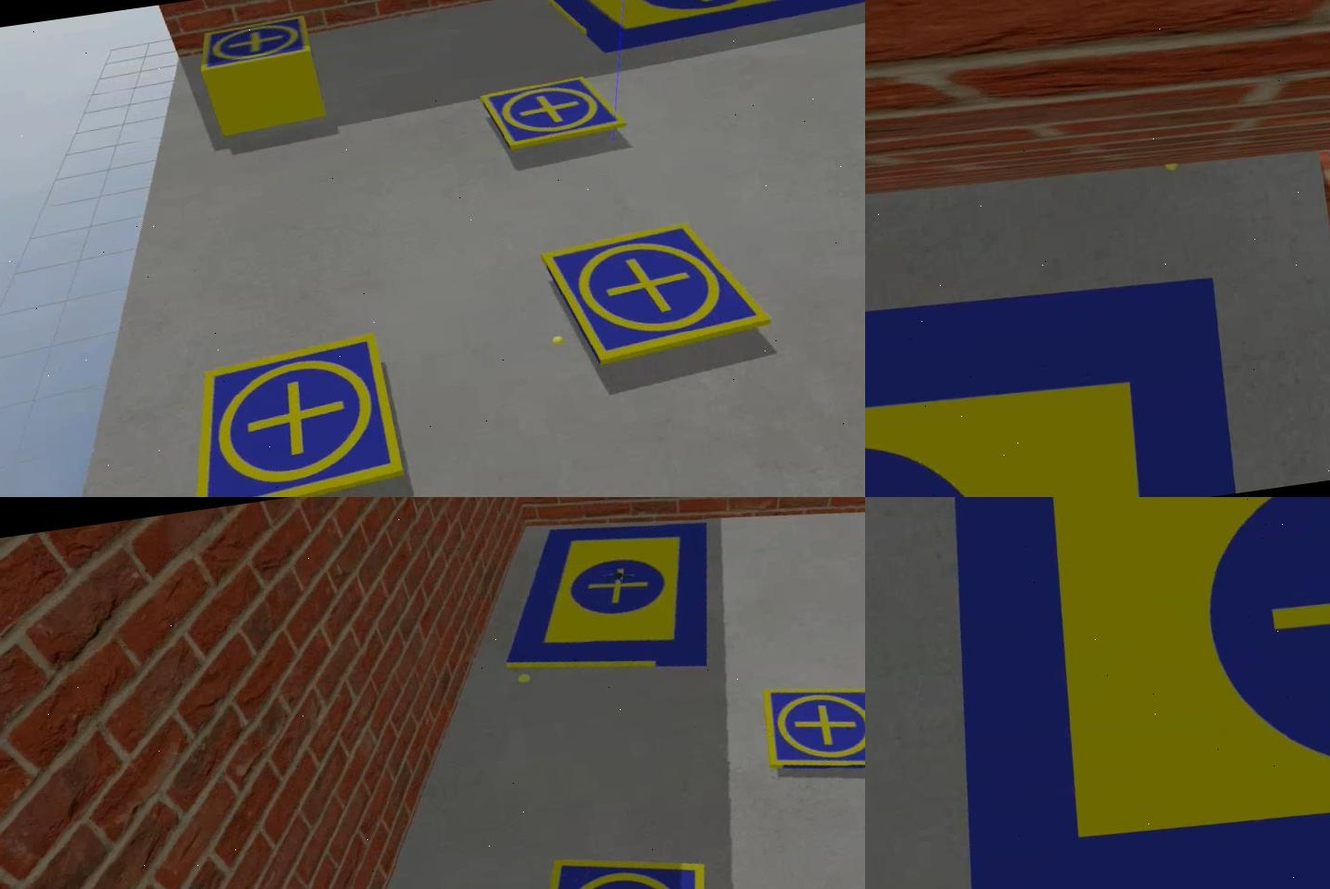large_base: (891, 498, 1328, 889), (864, 247, 1241, 498), (487, 502, 729, 695), (537, 1, 864, 64)
small_base: (166, 328, 409, 498), (537, 209, 775, 373), (476, 71, 624, 159), (759, 672, 864, 786), (507, 838, 724, 889), (195, 13, 314, 75)
